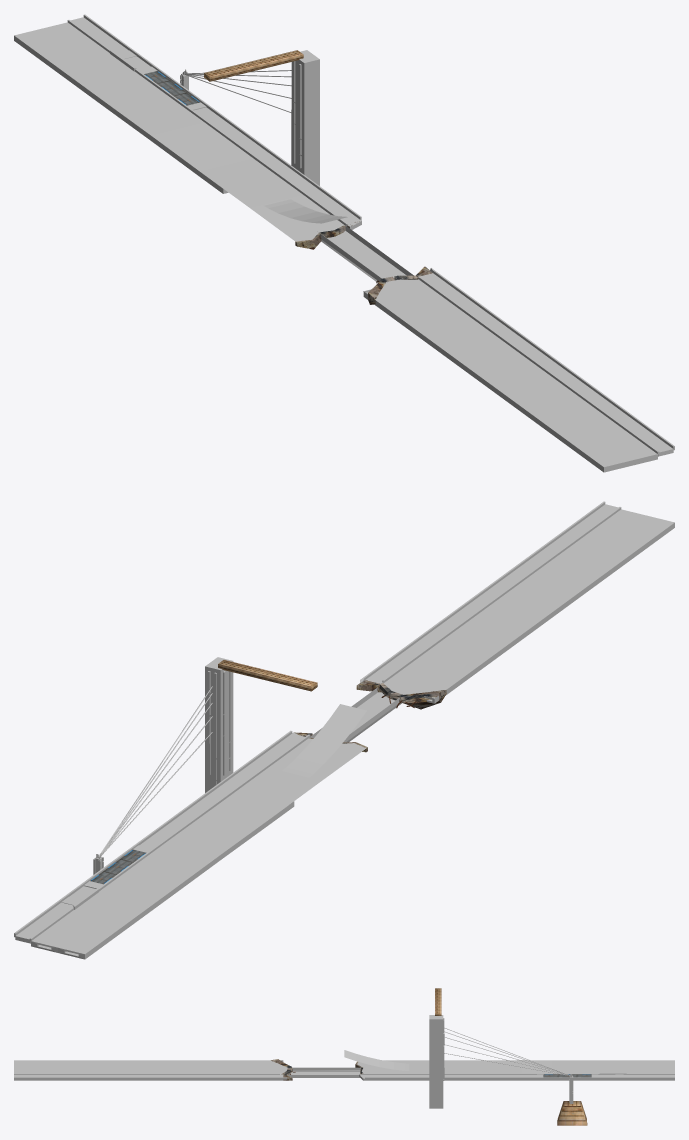
Rendered from road-8-2.FBX.
3 renders of one model, top to bottom at view 1: azimuth 30°, elevation 25°; view 2: azimuth 150°, elevation 25°; view 3: azimuth 270°, elevation 25°, orthographic. The views are drawn at different scales.
Parts seen in each view (by area): view 1: road060, Box574, road062, Box575, Box577, ChamferBox176, road061, Box624; view 2: road060, Box574, Box575, road062, Box577, road061, Cylinder055, ChamferBox176, Box624; view 3: road060, Box574, Box575, Box577, road062, Cylinder055, leg_clutches030, road061.
Part boxes in pixels (x1,y1,x2,y2): road060: (14, 22, 657, 466); Box574: (70, 17, 673, 456); road062: (14, 35, 657, 472); Box575: (67, 14, 674, 453); Box577: (291, 50, 319, 185); ChamferBox176: (204, 50, 303, 81); road061: (264, 199, 347, 223); Box624: (295, 225, 418, 304); road060: (31, 509, 674, 953); Box574: (15, 504, 618, 943); Box575: (14, 501, 621, 940); road062: (31, 522, 674, 959); Box577: (205, 657, 233, 792); road061: (282, 704, 366, 777); Cylinder055: (98, 686, 212, 857); ChamferBox176: (218, 660, 317, 691); Box624: (309, 683, 446, 752); road060: (14, 1060, 674, 1073); Box574: (14, 1074, 674, 1080); Box575: (14, 1073, 674, 1079); Box577: (429, 1015, 443, 1108); road062: (281, 1060, 360, 1077); Cylinder055: (444, 1027, 570, 1075); leg_clutches030: (557, 1101, 587, 1125); road061: (344, 1050, 409, 1070).
Bounding box in the file's own units: 5986 × 9691 × 54423.
